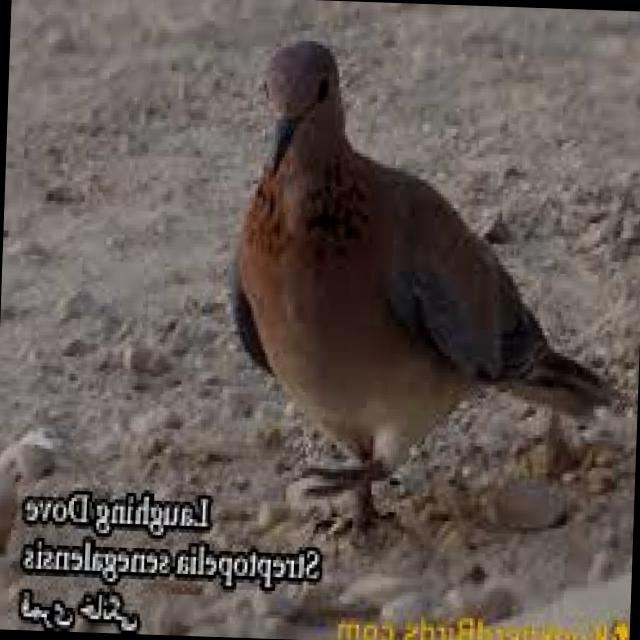bird: (218, 29, 638, 550)
